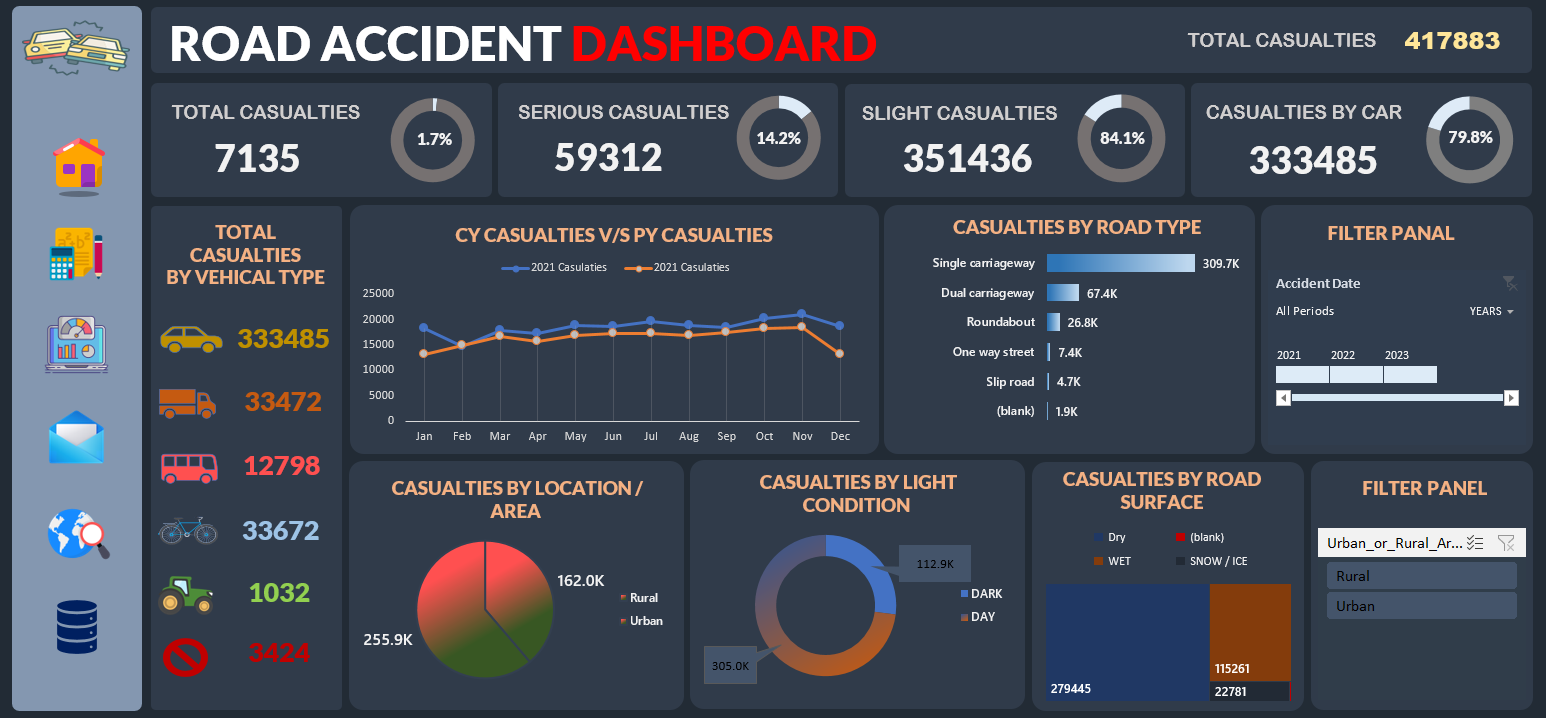

The dashboard page shown, as its layout file describes it:
{"tool":"powerbi","page":{"name":"Page 1","canvas":[1920,1080],"ordinal":0},"visuals":[{"type":"group","id":"g1","title":"Group 1","box":[24.8,148.8,348.7,157.6],"z":0},{"type":"cardVisual","title":"TOTAL CY CASUALTIES","fields":{"Data":["Data.CY Casultites"]},"box":[24.8,148.8,348.7,108],"z":0,"group":"g1"},{"type":"cardVisual","title":"TOTAL CY ACCIDENTS","fields":{"Data":["Data.CY Accidents"]},"box":[404.1,148.8,338.5,108],"z":0,"group":"g2"},{"type":"cardVisual","title":"CY FATAL CASUALTIES","fields":{"Data":["Data.CY Casultites"]},"box":[780.5,148.8,348.7,108],"z":0,"group":"g3"},{"type":"cardVisual","title":"CY SLIGHT CASUALTIES","fields":{"Data":["Data.CY Casultites"]},"box":[1550.9,148.8,348.7,108],"z":0,"group":"g5"},{"type":"cardVisual","title":"CY SERIOUS CASUALTIES","fields":{"Data":["Data.CY Casultites"]},"box":[1166.9,149.1,348.7,108],"z":0,"group":"g4"},{"type":"group","id":"g2","title":"Group 1","box":[404.1,148.8,338.5,157.6],"z":1000},{"type":"cardVisual","fields":{"Data":["Data.YOY Casualtites"]},"box":[1667.5,256.5,105.8,49.6],"z":1000,"group":"g5"},{"type":"cardVisual","fields":{"Data":["Data.YOY Casualtites"]},"box":[144.7,256.8,109,49.6],"z":1000,"group":"g1"},{"type":"cardVisual","fields":{"Data":["Data.YOY Accident"]},"box":[520.5,256.8,105.8,49.6],"z":1000,"group":"g2"},{"type":"cardVisual","fields":{"Data":["Data.YOY Casualtites"]},"box":[900.4,256.8,109,49.6],"z":1000,"group":"g3"},{"type":"cardVisual","fields":{"Data":["Data.YOY Casualtites"]},"box":[1283.5,256.8,105.8,49.6],"z":1000,"group":"g4"},{"type":"group","id":"g3","title":"Group 1","box":[780.5,148.8,348.7,157.6],"z":2000},{"type":"group","id":"g4","title":"Group 1","box":[1166.9,149.1,348.7,157.3],"z":3000},{"type":"group","id":"g5","title":"Group 1","box":[1550.9,148.8,348.7,157.6],"z":4000},{"type":"textbox","box":[24.8,42.3,564.6,71.5],"z":5000},{"type":"multiRowCard","fields":{"Values":["Data.Vehicle_Type (groups) 2","Data.CY Casultites"]},"box":[144.4,427.5,229.1,631.7],"z":6000},{"type":"image","box":[48.1,443.5,80.2,74.4],"z":7000},{"type":"image","box":[48.1,539.8,80.2,74.4],"z":8000},{"type":"image","box":[48.1,919.1,80.2,74.4],"z":9000},{"type":"image","box":[48.1,633.2,80.2,74.4],"z":10000},{"type":"image","box":[48.1,728,80.2,74.4],"z":11000},{"type":"image","box":[48.1,822.9,80.2,74.4],"z":12000},{"type":"textbox","box":[37.9,353.1,335.6,43.8],"z":13000},{"type":"areaChart","title":"CY CASUALTIES VS PY CASUALTIES MONTHLY TREND","fields":{"Category":["Calander.Month"],"Series":["Calander.Date.Variation.Date Hierarchy.Year"],"Y":["Sum(Data.Number_of_Casualties)"]},"box":[400,338,666,338],"z":14000},{"type":"donutChart","title":"URBAN/RUEAL","fields":{"Category":["Data.Urban_or_Rural_Area"],"Y":["Data.CY Casultites"]},"box":[1095.7,337,364.7,339.9],"z":15000},{"type":"donutChart","title":"CASUALTIES BY LIGHT CONDITION","fields":{"Category":["Data.Light_Conditions (groups)"],"Y":["Data.CY Casultites"]},"box":[1095.7,707.6,364.7,339.9],"z":16000},{"type":"barChart","title":"CASUALTIES BY ROAD TYPE","fields":{"Category":["Data.Road_Type"],"Y":["Data.CY Casultites"]},"box":[399.8,707.6,665.3,339.9],"z":17000},{"type":"map","title":"CASUALTIES BY LOCATION","fields":{"Category":["Data.Local_Authority_(District)"],"X":["Data.Longitude"],"Y":["Data.Latitude"]},"box":[1489.6,338.5,410,720.7],"z":18000},{"type":"slicer","fields":{"Values":["Data.Weather_Conditions (groups)"]},"box":[1654.5,29.2,236.4,84.6],"z":18001},{"type":"slicer","fields":{"Values":["Data.Road_Surface_Conditions (groups)"]},"box":[1324.7,29.2,236.4,84.6],"z":18002}]}

Visuals, with their boxes on the page's 1920x1080 design canvas (x1, y1, x2, y2). These are canvas units, not pixel positions in the 1546x718 screenshot, which may show the page scaled, cropped or inside an application window:
"Group 1" group: (left=25, top=149, right=374, bottom=306)
"TOTAL CY CASUALTIES" cardVisual: (left=25, top=149, right=374, bottom=257)
"TOTAL CY ACCIDENTS" cardVisual: (left=404, top=149, right=743, bottom=257)
"CY FATAL CASUALTIES" cardVisual: (left=780, top=149, right=1129, bottom=257)
"CY SLIGHT CASUALTIES" cardVisual: (left=1551, top=149, right=1900, bottom=257)
"CY SERIOUS CASUALTIES" cardVisual: (left=1167, top=149, right=1516, bottom=257)
"Group 1" group: (left=404, top=149, right=743, bottom=306)
cardVisual - Data.YOY Casualtites: (left=1668, top=256, right=1773, bottom=306)
cardVisual - Data.YOY Casualtites: (left=145, top=257, right=254, bottom=306)
cardVisual - Data.YOY Accident: (left=520, top=257, right=626, bottom=306)
cardVisual - Data.YOY Casualtites: (left=900, top=257, right=1009, bottom=306)
cardVisual - Data.YOY Casualtites: (left=1284, top=257, right=1389, bottom=306)
"Group 1" group: (left=780, top=149, right=1129, bottom=306)
"Group 1" group: (left=1167, top=149, right=1516, bottom=306)
"Group 1" group: (left=1551, top=149, right=1900, bottom=306)
textbox: (left=25, top=42, right=589, bottom=114)
multiRowCard - Data.Vehicle_Type (groups) 2 x Data.CY Casultites: (left=144, top=428, right=374, bottom=1059)
image: (left=48, top=444, right=128, bottom=518)
image: (left=48, top=540, right=128, bottom=614)
image: (left=48, top=919, right=128, bottom=994)
image: (left=48, top=633, right=128, bottom=708)
image: (left=48, top=728, right=128, bottom=802)
image: (left=48, top=823, right=128, bottom=897)
textbox: (left=38, top=353, right=374, bottom=397)
"CY CASUALTIES VS PY CASUALTIES MONTHLY TREND" areaChart: (left=400, top=338, right=1066, bottom=676)
"URBAN/RUEAL" donutChart: (left=1096, top=337, right=1460, bottom=677)
"CASUALTIES BY LIGHT CONDITION" donutChart: (left=1096, top=708, right=1460, bottom=1048)
"CASUALTIES BY ROAD TYPE" barChart: (left=400, top=708, right=1065, bottom=1048)
"CASUALTIES BY LOCATION" map: (left=1490, top=338, right=1900, bottom=1059)
slicer - Data.Weather_Conditions (groups): (left=1654, top=29, right=1891, bottom=114)
slicer - Data.Road_Surface_Conditions (groups): (left=1325, top=29, right=1561, bottom=114)
